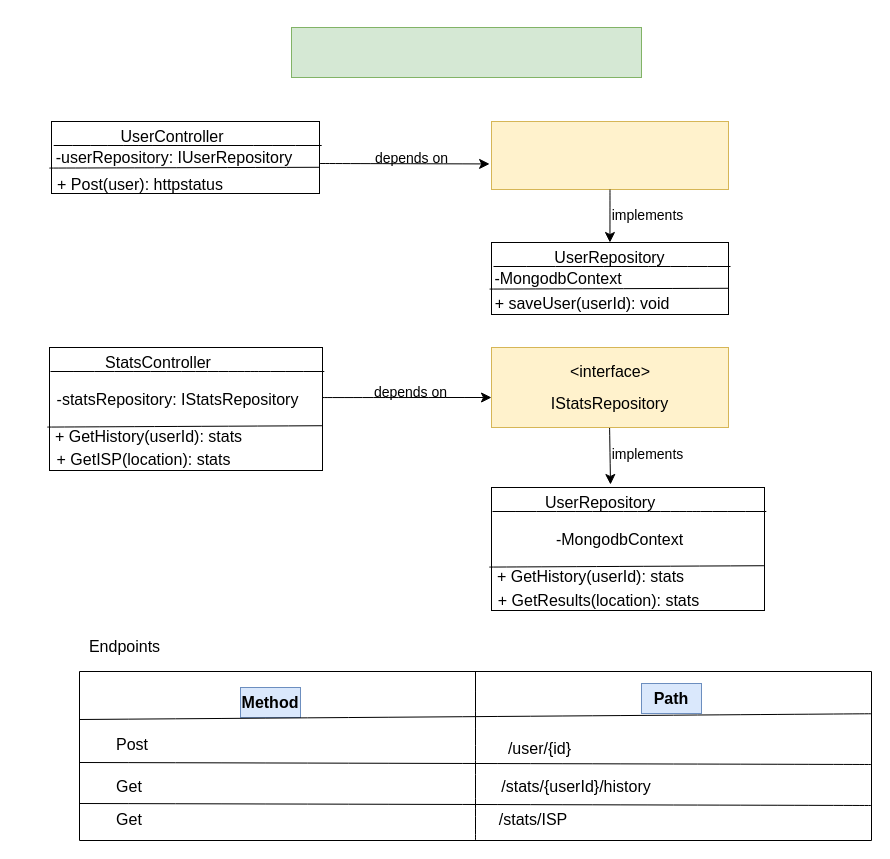
This 890x859 diagram has some shape labels left out. Here are the shapes that lost their labels. From the top down, the centre of each, then its label:
(466,52): Internet Speed Test
(609,155): <interface> IUserRepository
